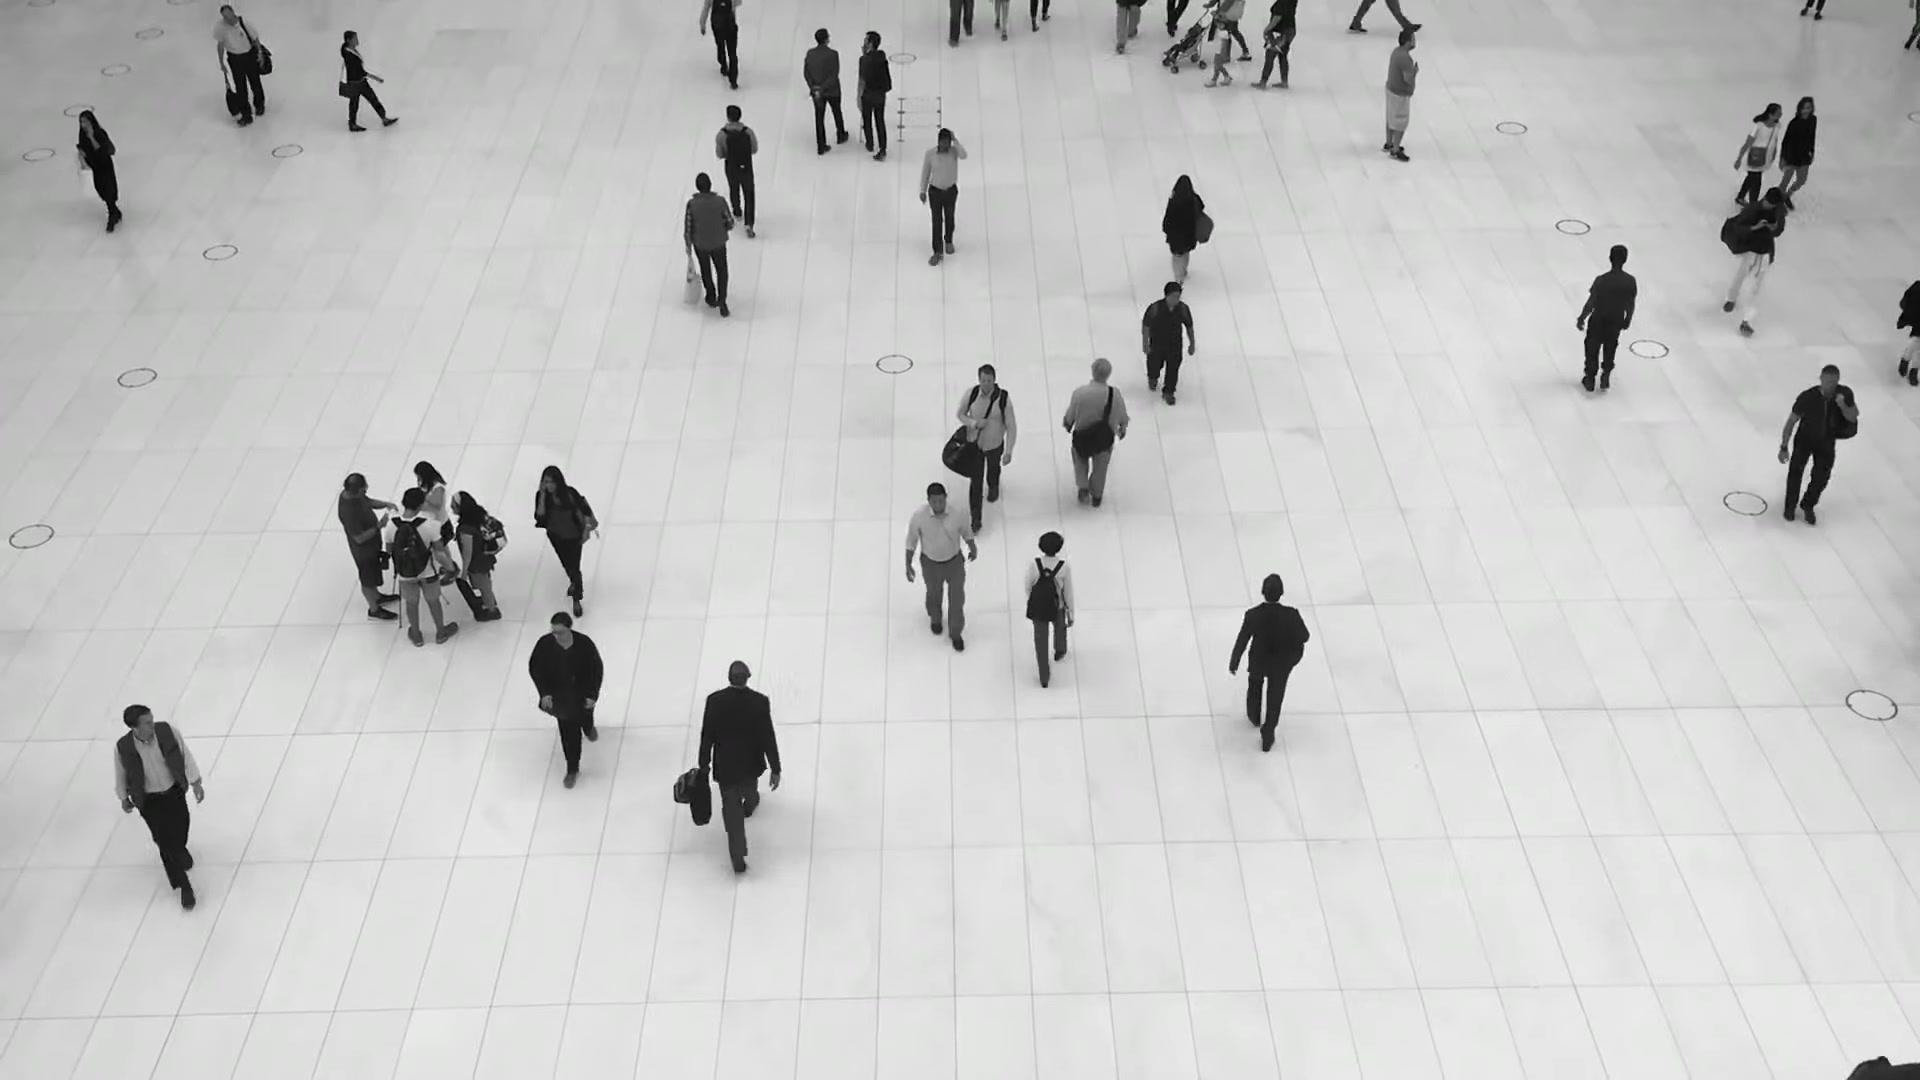person: (114, 704, 205, 912), (697, 660, 781, 874), (1228, 572, 1309, 752), (528, 611, 604, 789), (1778, 364, 1859, 524), (905, 482, 977, 651), (383, 486, 458, 647), (957, 363, 1017, 535), (1062, 358, 1129, 507), (533, 465, 598, 617), (1721, 187, 1785, 334), (337, 471, 400, 623), (1576, 244, 1637, 392), (1023, 530, 1075, 689), (683, 172, 735, 317), (449, 489, 502, 621), (1141, 281, 1195, 405), (915, 126, 965, 260), (211, 4, 265, 126), (338, 29, 400, 131), (412, 460, 459, 585), (803, 28, 849, 155), (1161, 175, 1214, 284), (715, 104, 758, 238), (76, 109, 122, 233), (1382, 27, 1420, 162), (1733, 102, 1782, 206), (856, 30, 892, 161), (1778, 96, 1817, 210), (1250, 0, 1297, 90), (699, 0, 744, 89), (1204, 18, 1231, 87)
